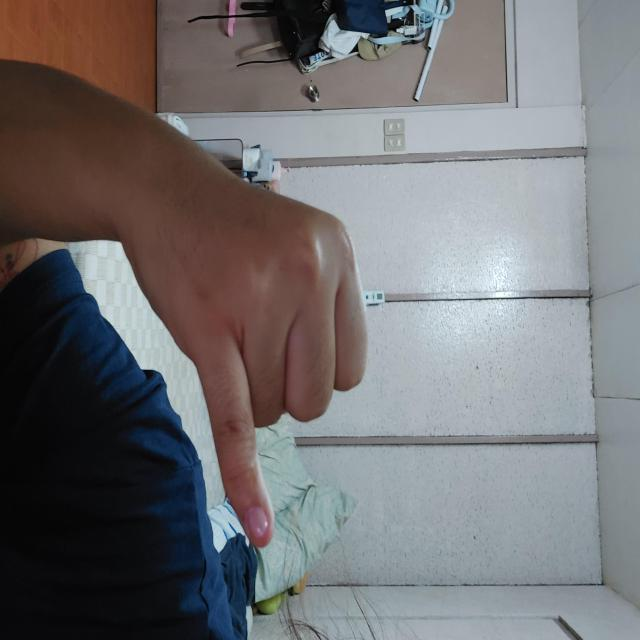J: (144, 271, 549, 525)
